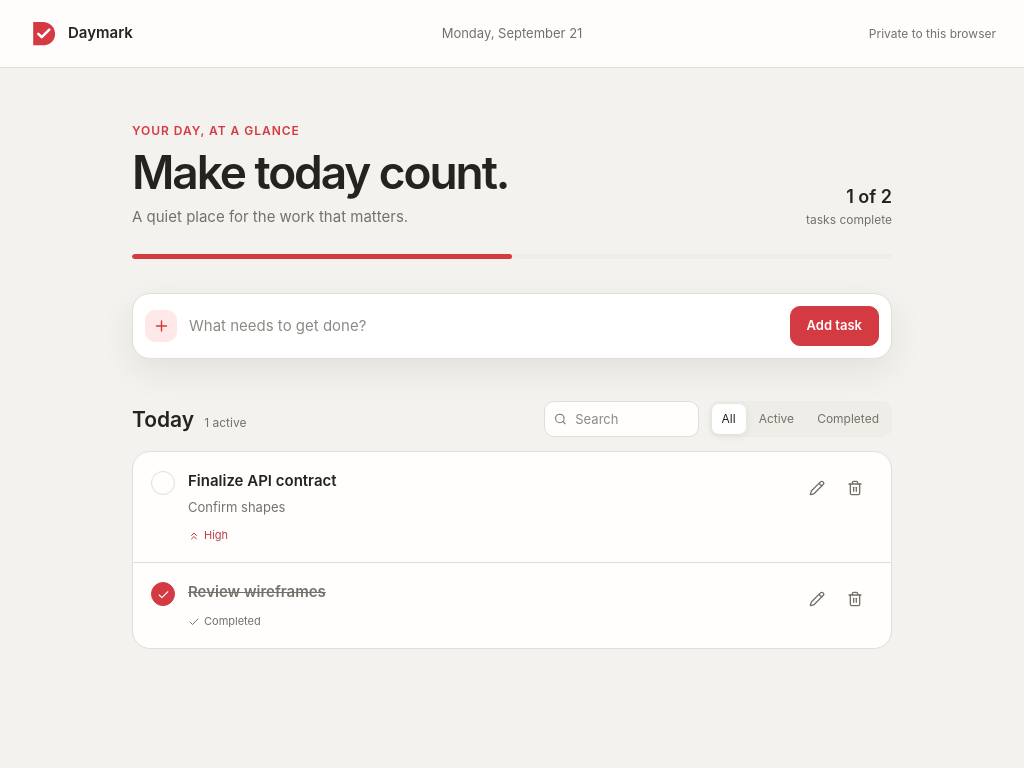
Test: App › completes and reopens a task
This screenshot has width=1024, height=768.
Expected: the heading "Finalize API contract" is shown, [188, 471, 337, 490]
What coordinates should you click on to do the following:
click the button named "Mark Finalize API contract complete"
I would click on:
 (163, 483)
Its box is [151, 471, 175, 495].
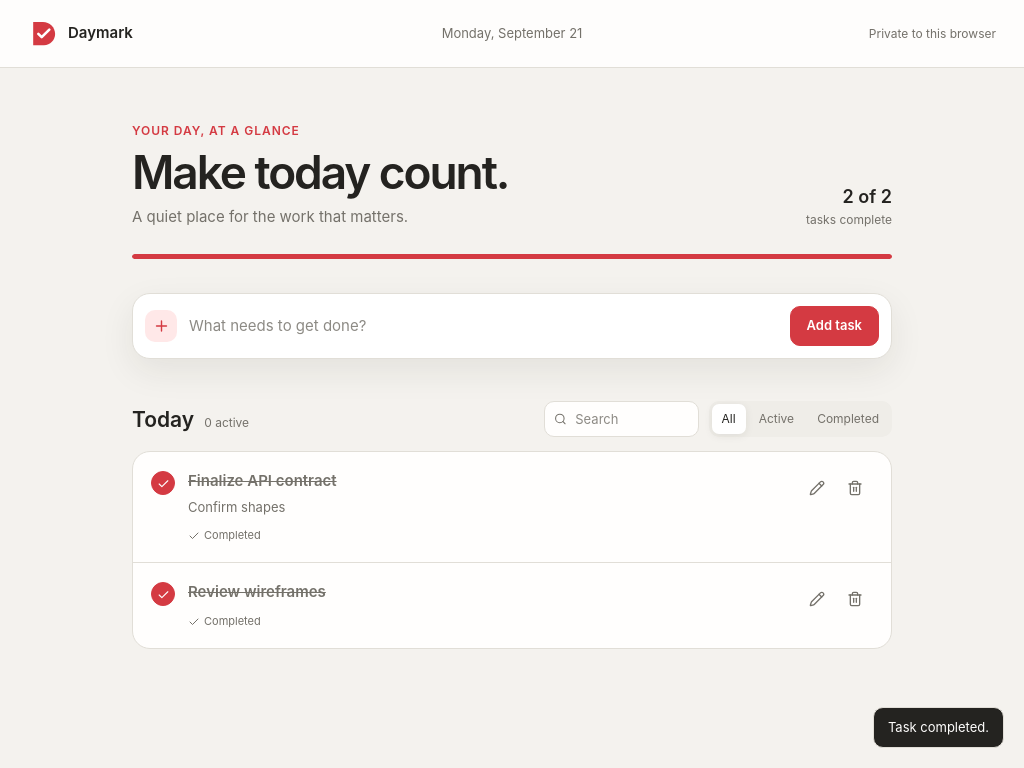
Expected: the button named "Reopen Finalize API contract" is shown
What coordinates should you click on to do the following:
click the button named "Reopen Finalize API contract"
I would click on:
 (163, 483)
Its box is [151, 471, 175, 495].
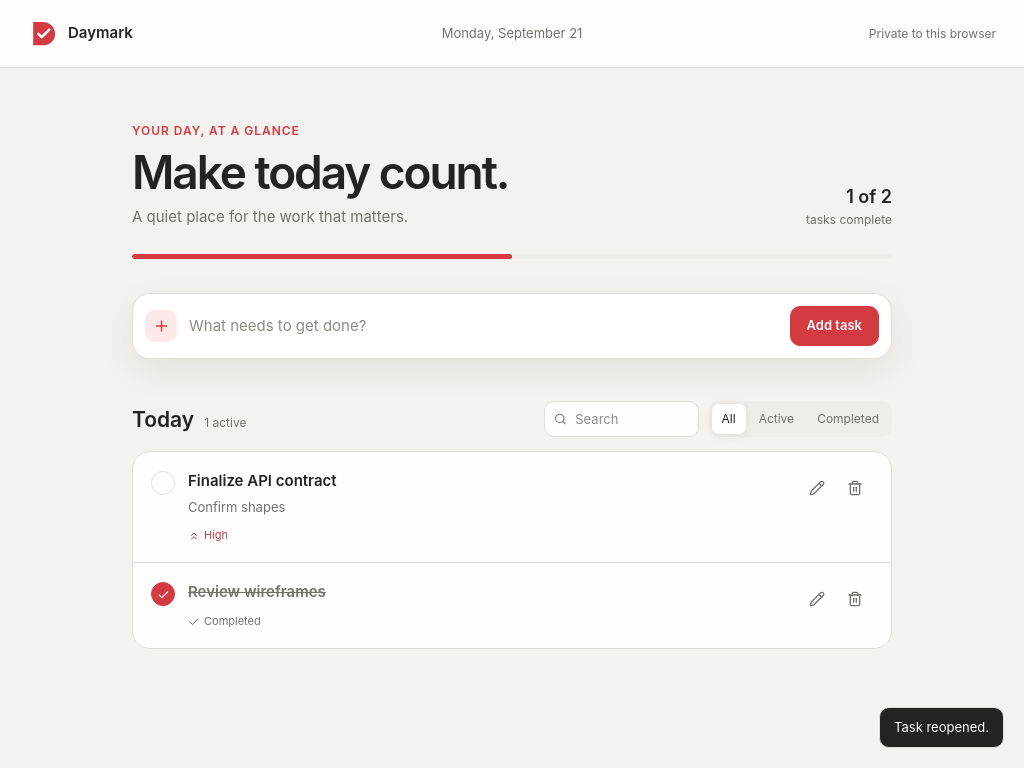
Expected: the button named "Mark Finalize API contract complete" is shown, [151, 471, 175, 495]
